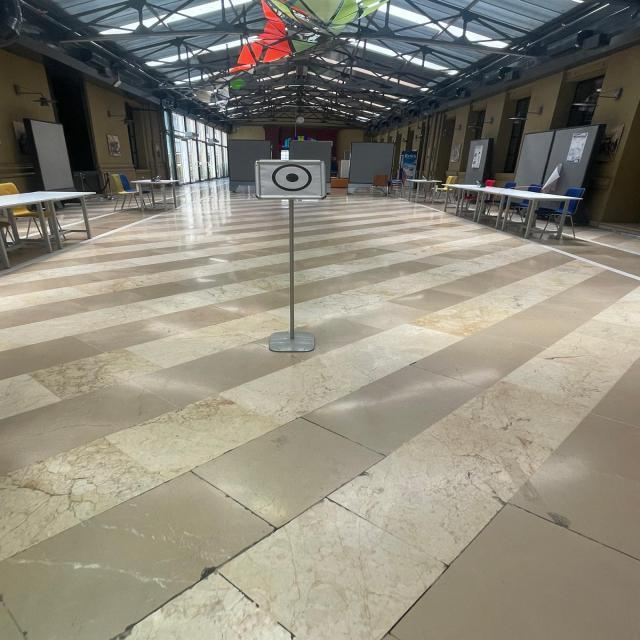Target: (248, 141, 340, 210)
inner: (282, 168, 306, 188)
